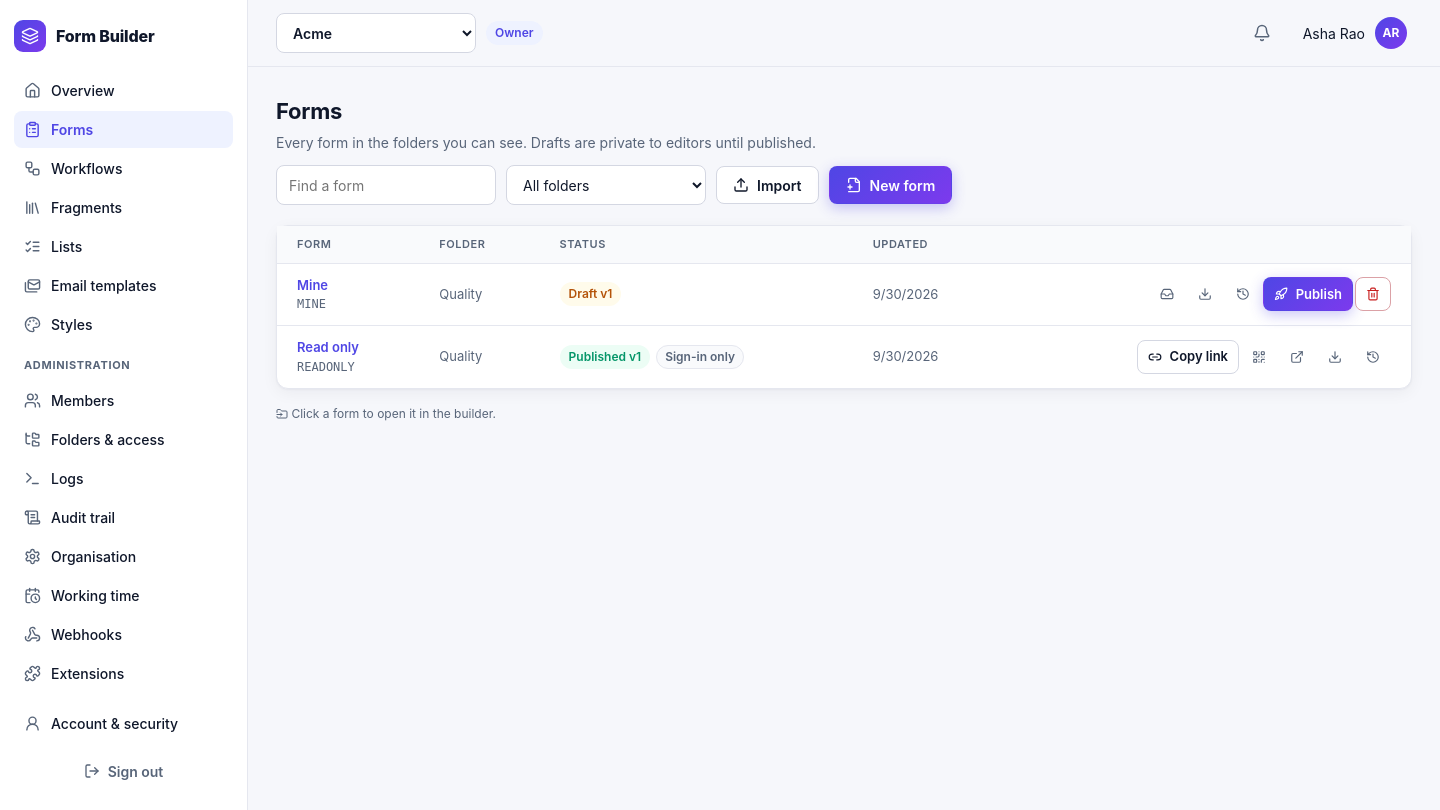
Test case: studio › forms: create from a template (code from the name) and actions follow per-form permissions
Check: the number of buttons "Publish" is 1, box [1263,277,1353,311]
Check: the button named "Delete draft Mine" is shown, box [1355,277,1391,311]
Click the button "New form".
click(890, 185)  # box [828,166,952,204]
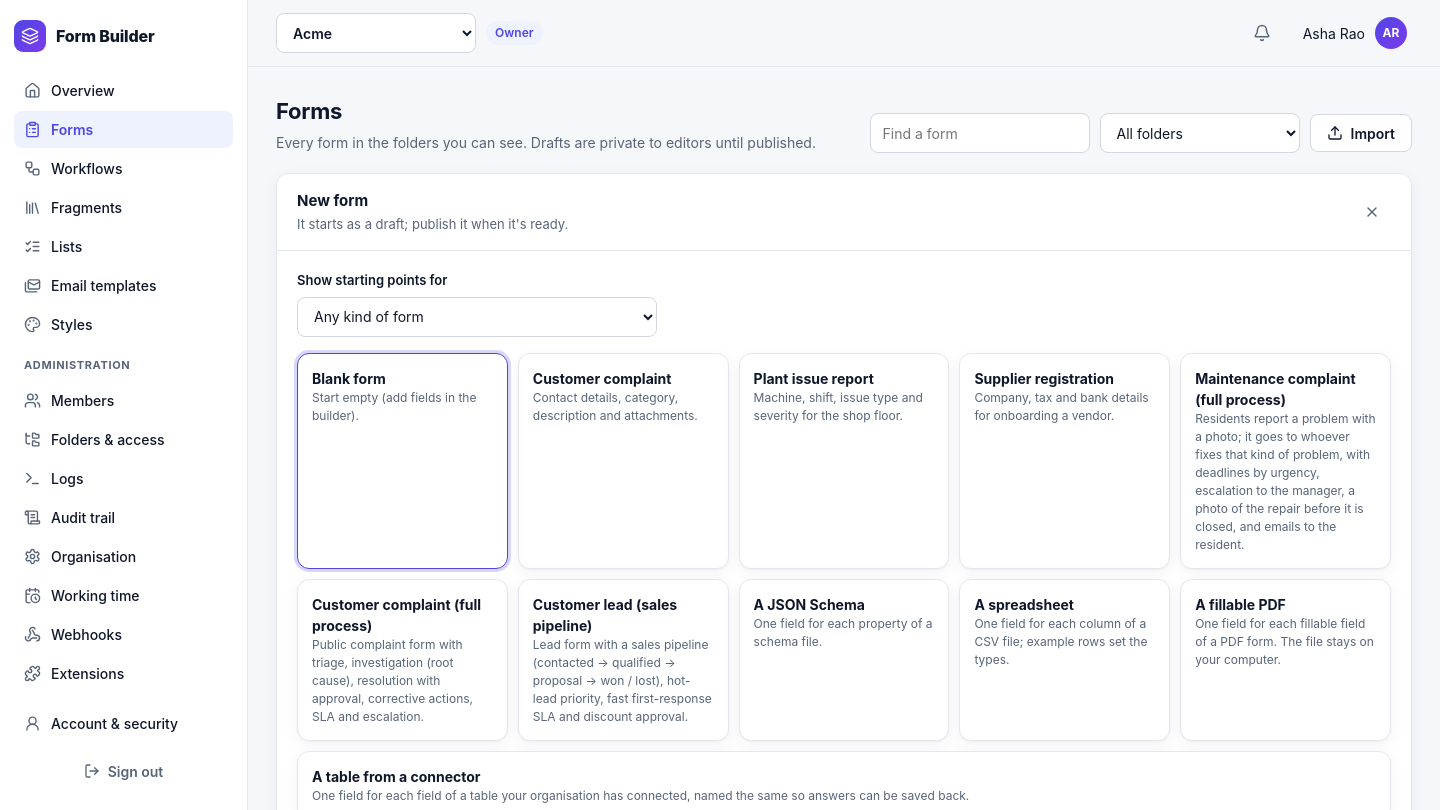
Click the text "Plant issue report".
click(814, 378)  # box [754,370,874,386]
(page scrolled)
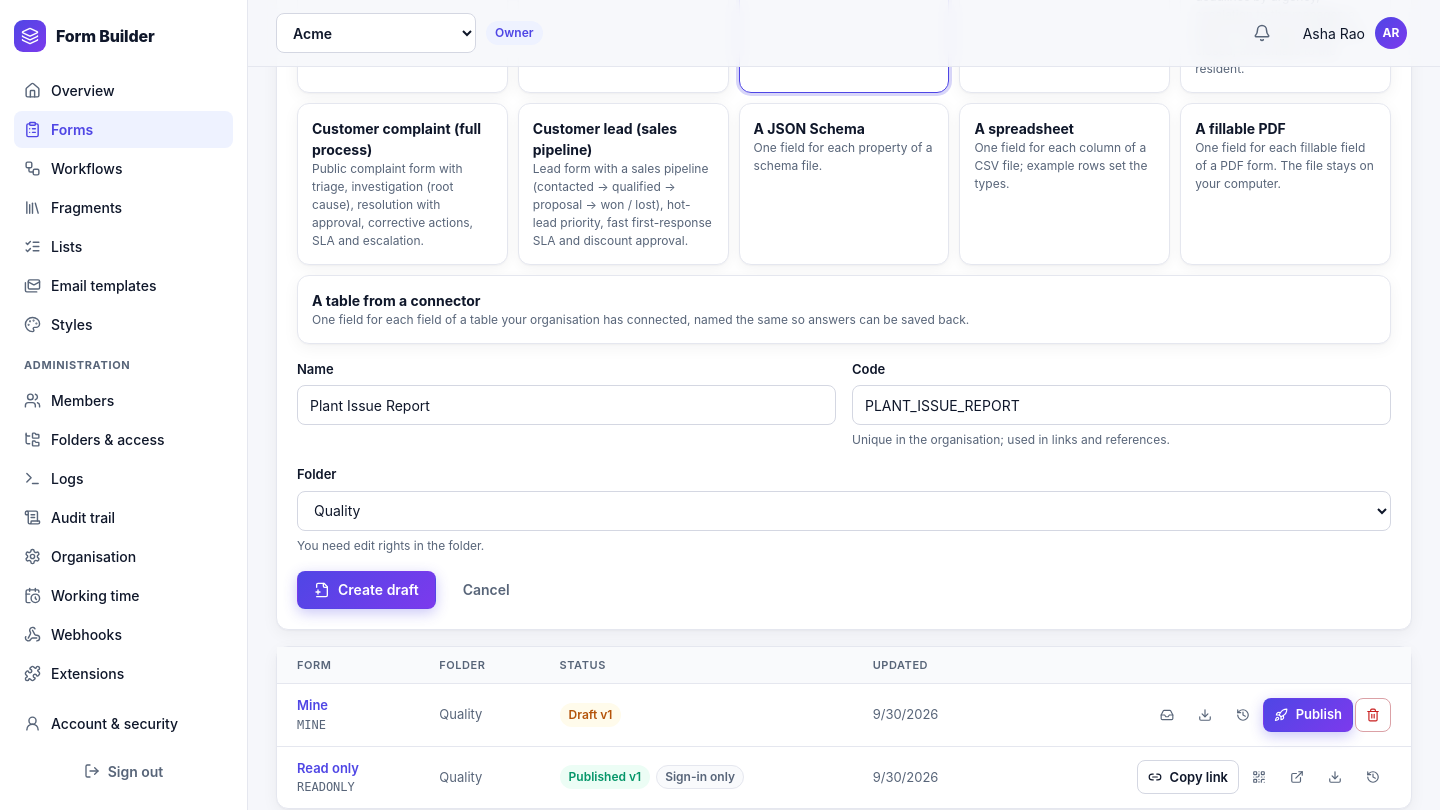
Replace the text in the field labelled "Name" with "Line 3 issues" at (566, 405), box [297,385,836,425]
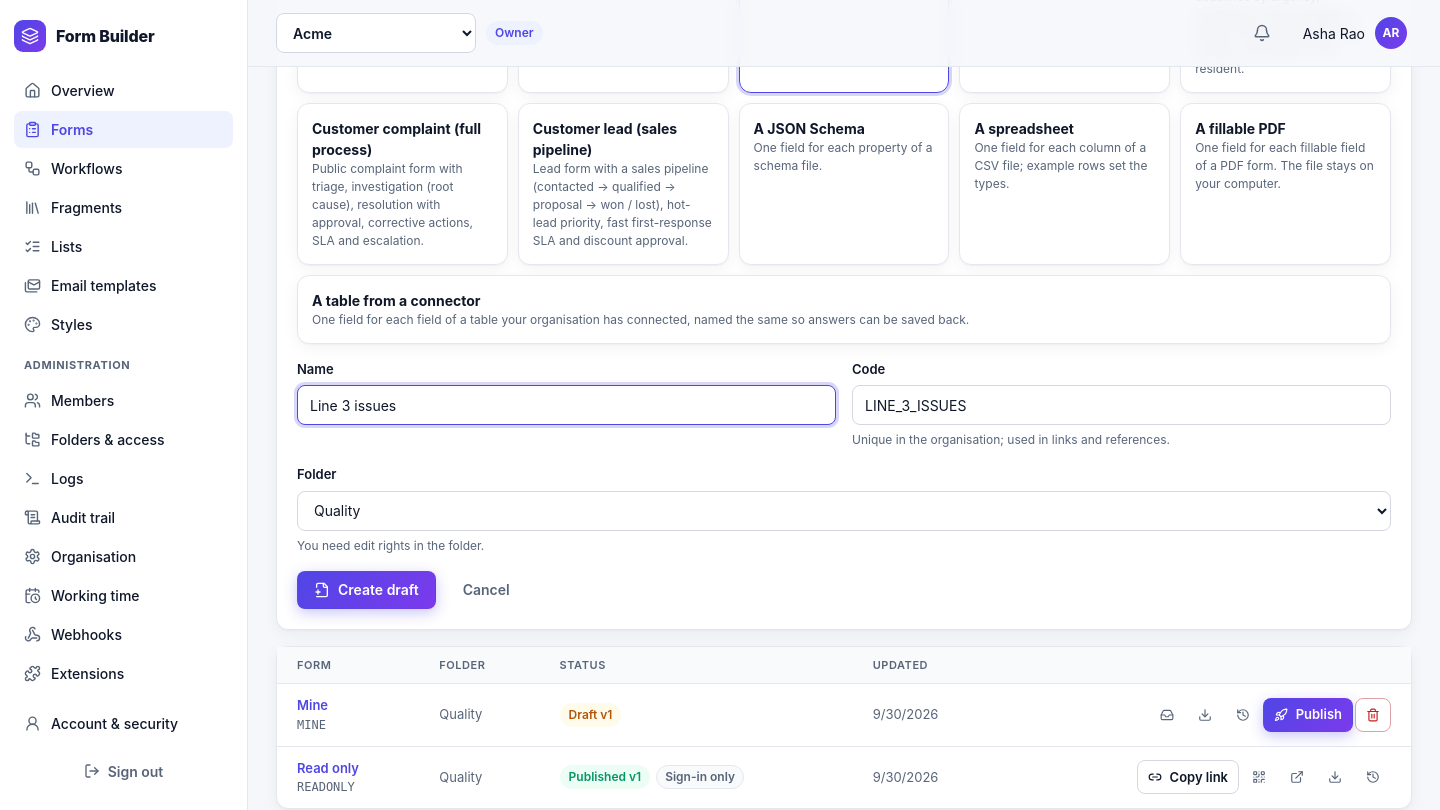
Click the button "Create draft".
click(366, 590)  # box [297,570,436,608]
(page scrolled)
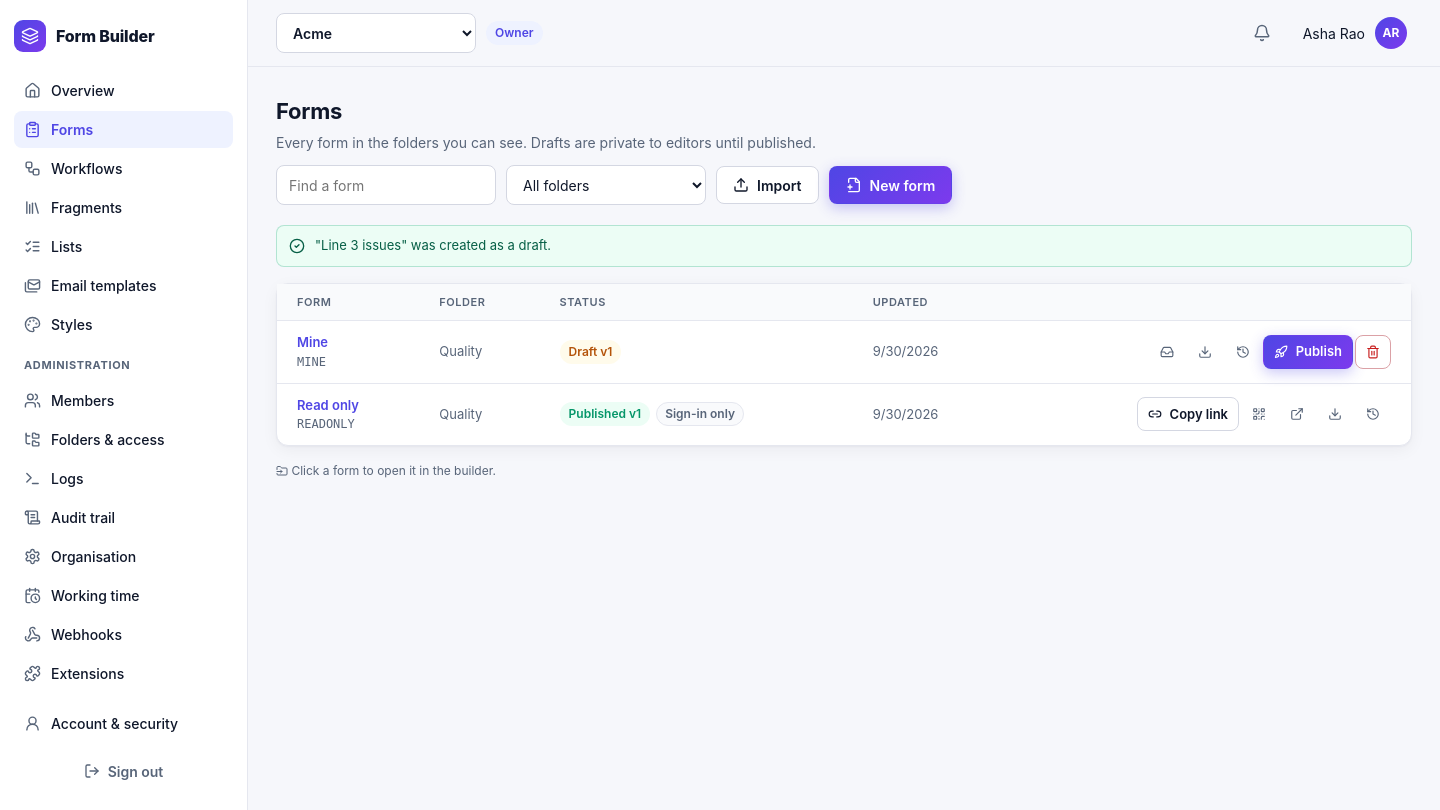
Check: the text "\"Line 3 issues\" was created as a draft." is shown, box [315,236,551,256]
